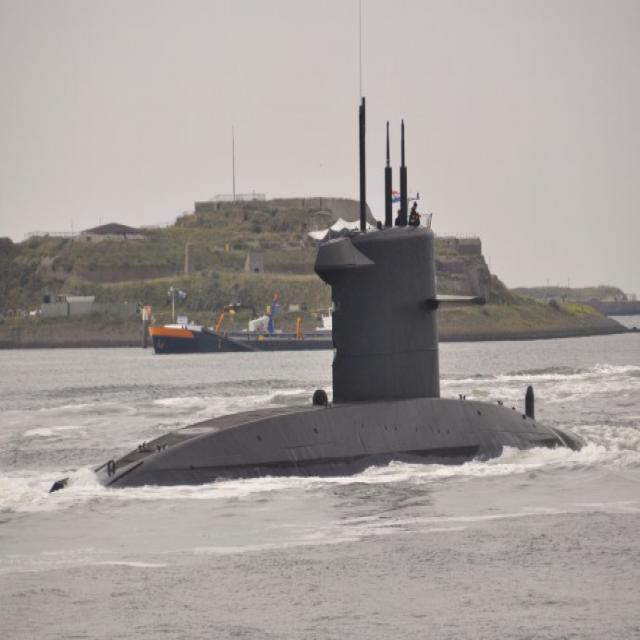submarine: (50, 227, 598, 489)
